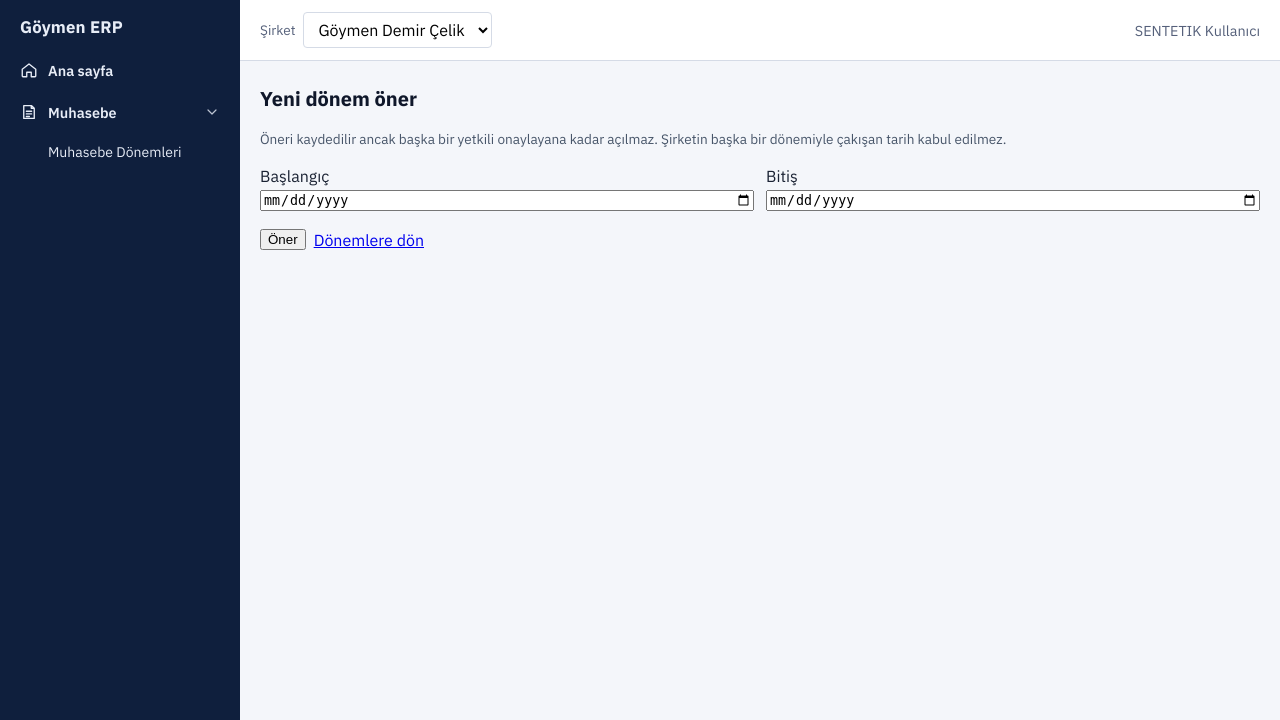
it: M-07 period proposal › shows an overlap by its code
The width and height of the screenshot is (1280, 720).
Type "2026-09-01" into the date field labelled "Başlangıç" at (507, 201), box x1=260 y1=190 x2=754 y2=211
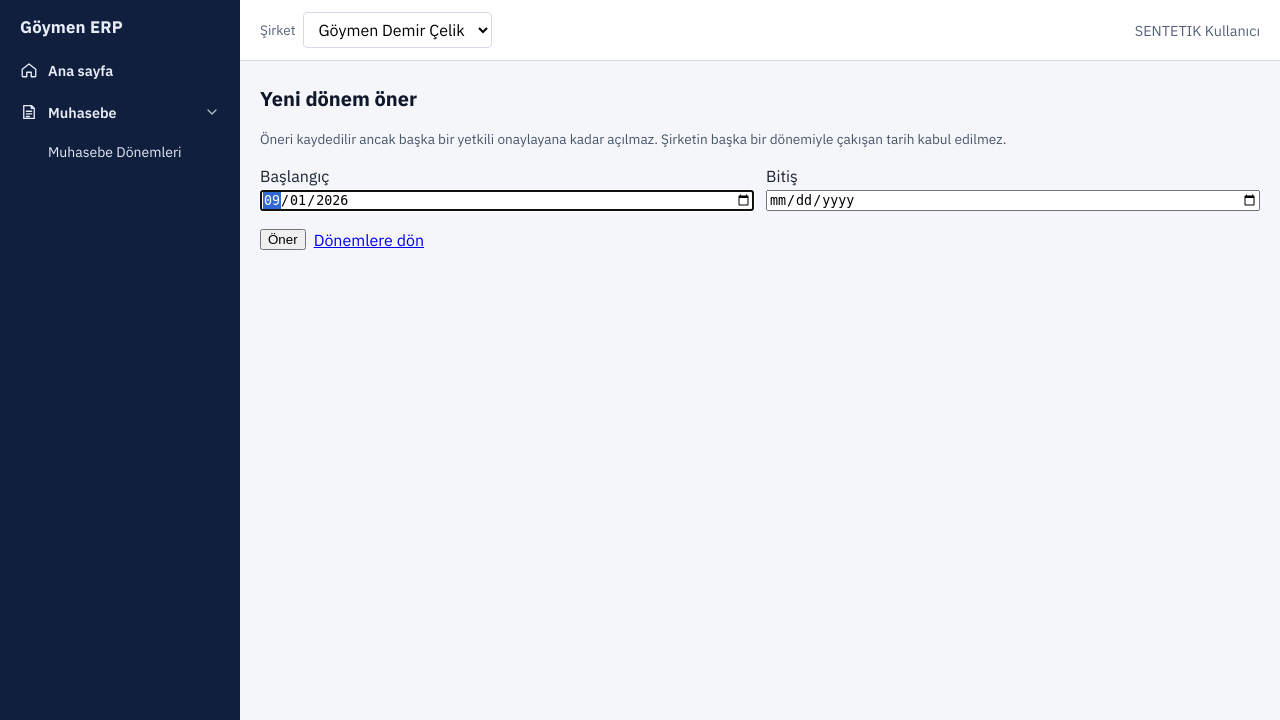
Type "2026-09-30" into the date field labelled "Bitiş" at (1013, 201), box x1=766 y1=190 x2=1260 y2=211
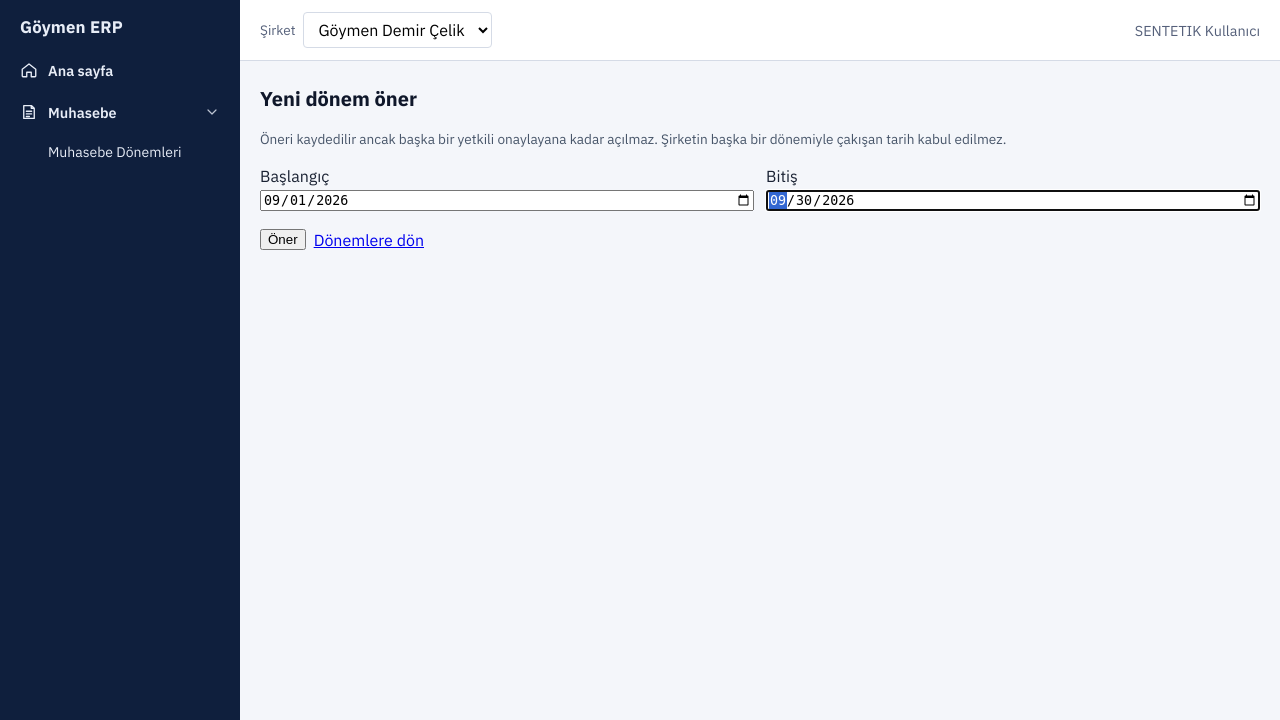
Click the button "Öner" at (283, 240), box x1=260 y1=229 x2=306 y2=250
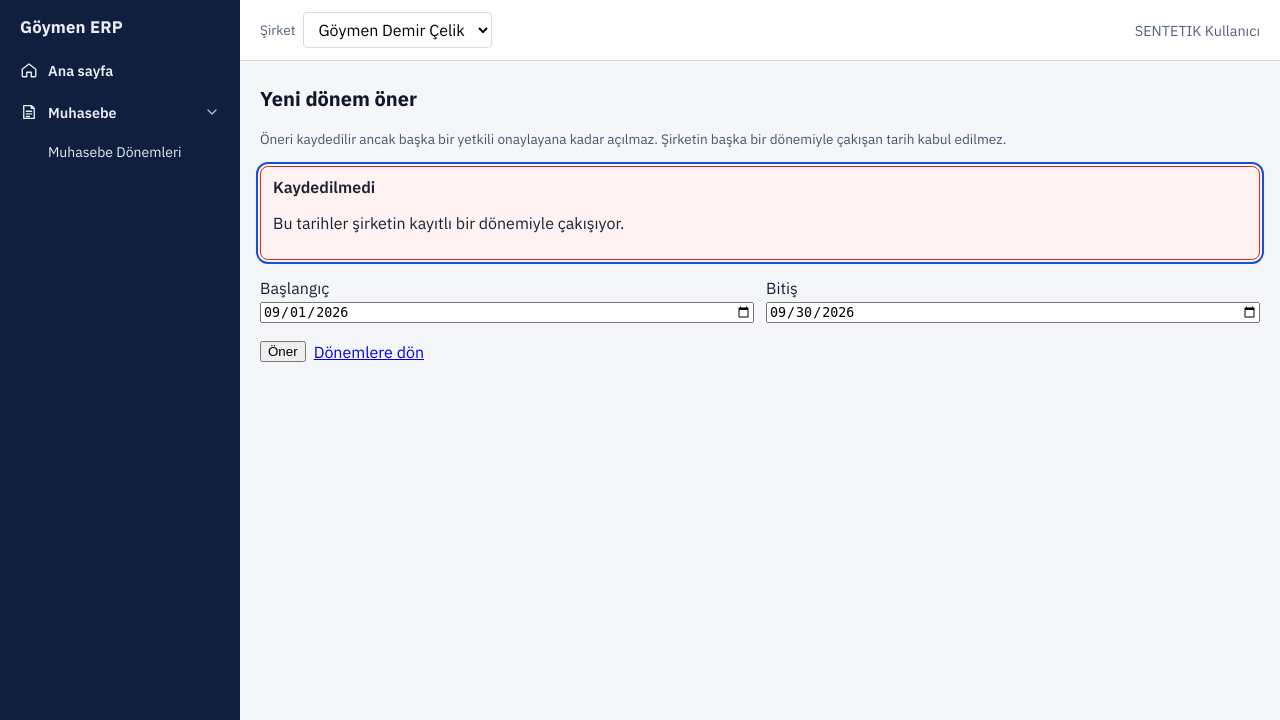
Now the text "Bu tarihler şirketin kayıtlı bir dönemiyle çakışıyor." is shown, box x1=273 y1=213 x2=624 y2=233
